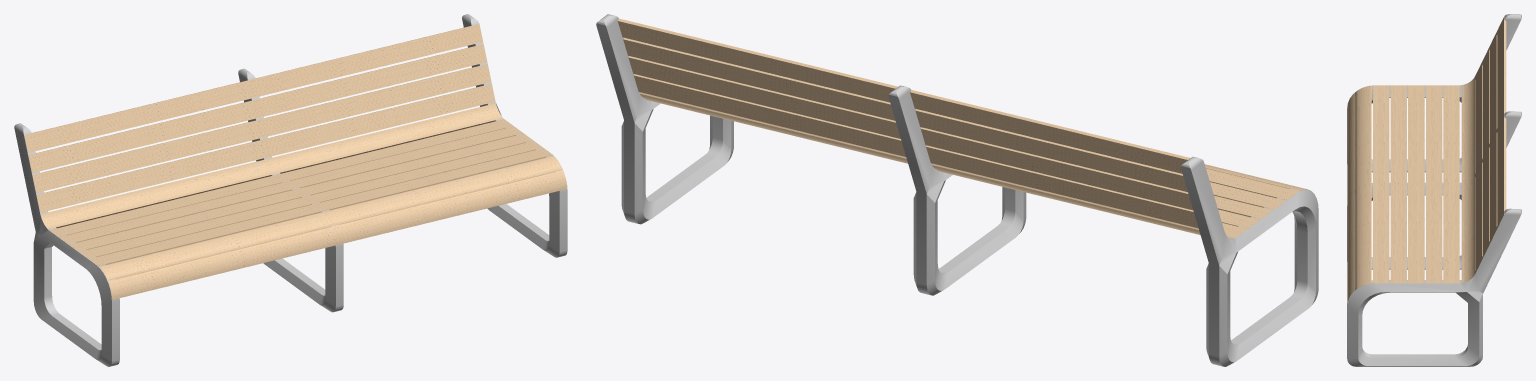
File: bench.glb
3 renders of one model, left to right at view 1: azimuth 30°, elevation 25°; view 2: azimuth 150°, elevation 25°; view 3: azimuth 270°, elevation 25°, orthographic. The views are drawn at different scales.
Visible parts, largest first — view 1: object 2, Cube_0; view 2: object 2, Cube_0; view 3: object 2, Cube_0.
Boxes of the visible parts, left/top/right/bottom form: object 2: left=24, top=24, right=567, bottom=299; Cube_0: left=14, top=14, right=567, bottom=366; object 2: left=617, top=18, right=1309, bottom=239; Cube_0: left=596, top=14, right=1318, bottom=366; object 2: left=1347, top=17, right=1506, bottom=303; Cube_0: left=1347, top=14, right=1521, bottom=366.
Bounding box in the file's own units: 10.38 × 3.74 × 3.79.
2 materials, 1 textured.
